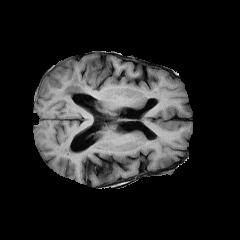glioma: (60, 68, 95, 97)
